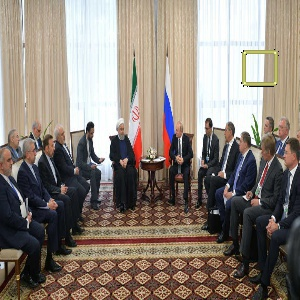square: (242, 50, 278, 87)
